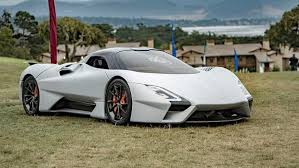car: (18, 44, 255, 125)
